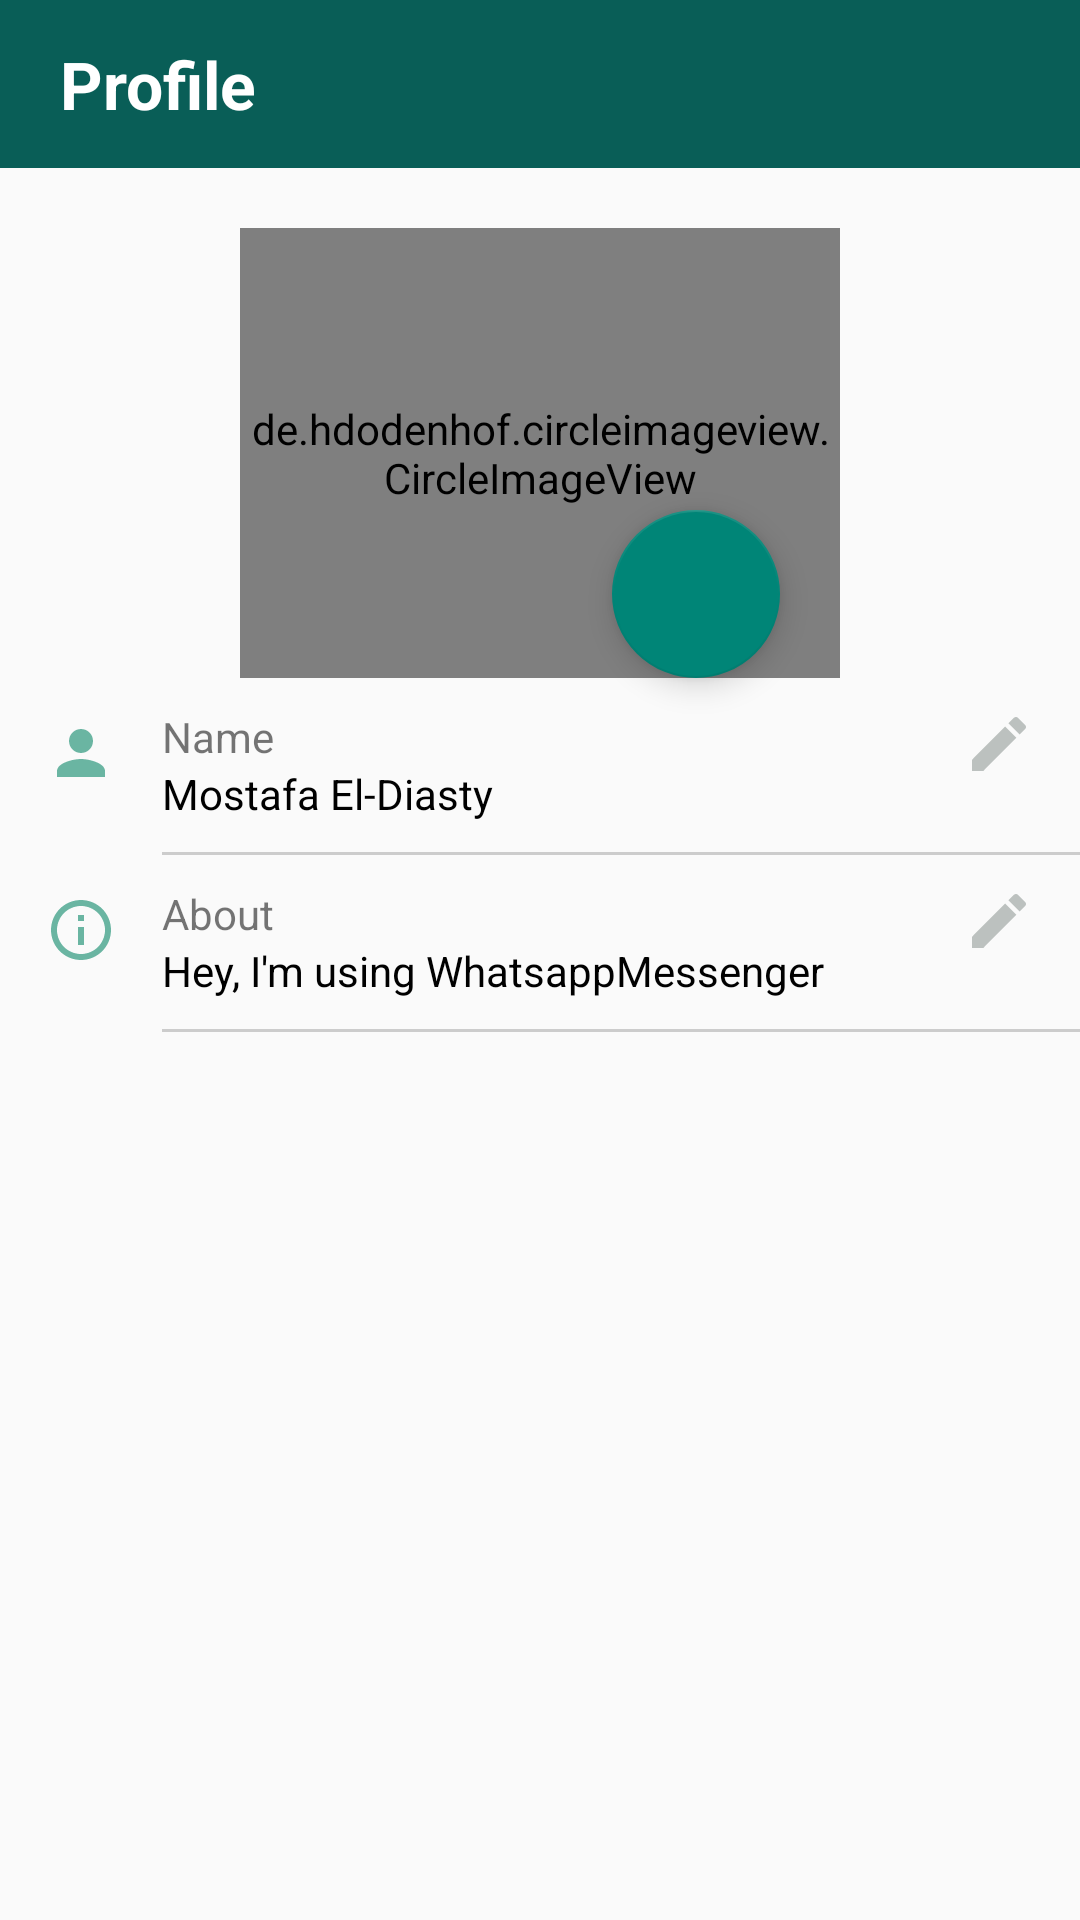

Icons on this 1080 × 1920 Android screen, each with its box as [left=x1, top=y1, right=x2, bottom=y2]:
edit: [left=972, top=717, right=1026, bottom=771], [left=972, top=894, right=1026, bottom=948]
info: [left=51, top=900, right=111, bottom=960]
person: [left=57, top=729, right=105, bottom=777]
